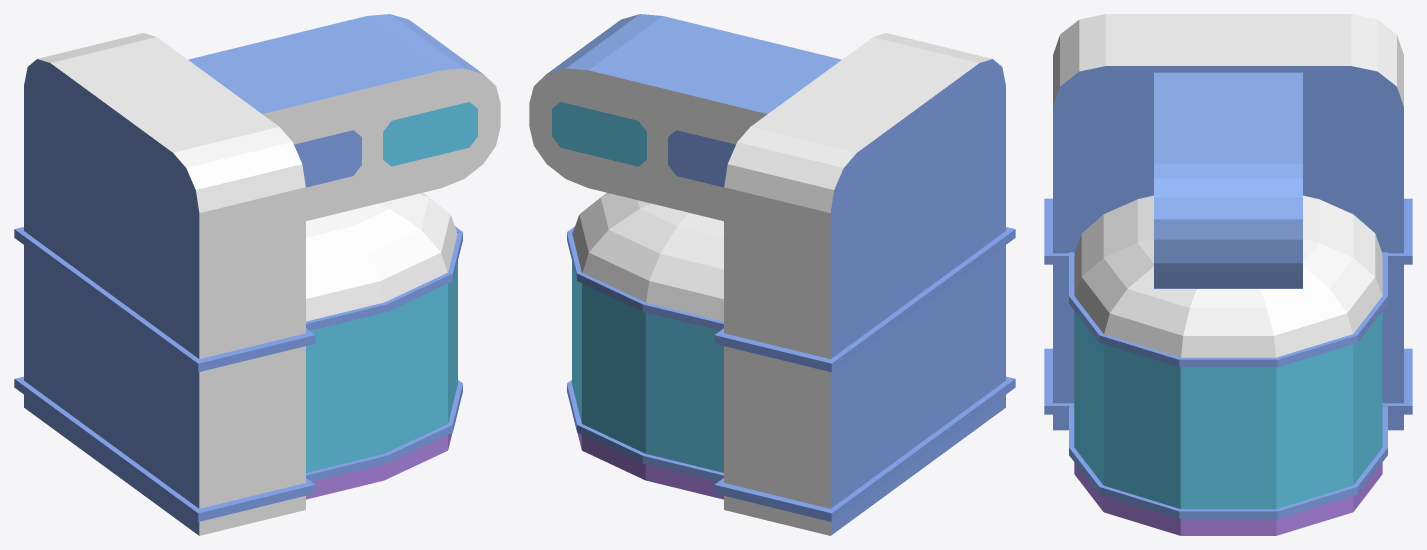
The model's file is Building_041.fbx.
3 renders of one model, left to right at view 1: azimuth 30°, elevation 25°; view 2: azimuth 150°, elevation 25°; view 3: azimuth 270°, elevation 25°, orthographic.
Parts seen in each view (by area): view 1: Building_041; view 2: Building_041; view 3: Building_041.
Part boxes in pixels (bbox=[...]): Building_041: bbox=[14, 14, 500, 535]; Building_041: bbox=[529, 14, 1015, 535]; Building_041: bbox=[1044, 14, 1412, 535].
Bounding box in the file's own units: 23.87 × 23.24 × 21.28.
